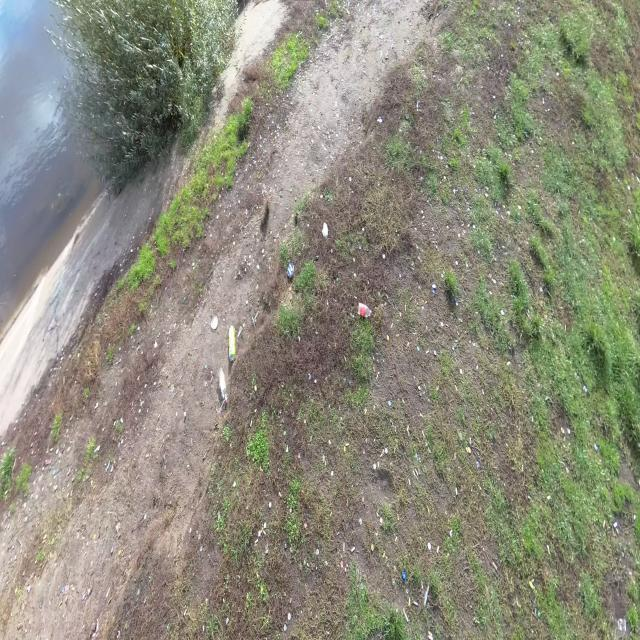rubbish: (217, 365, 228, 405), (357, 302, 374, 320), (228, 326, 235, 364), (286, 261, 297, 277), (211, 316, 218, 331), (322, 222, 328, 235)
